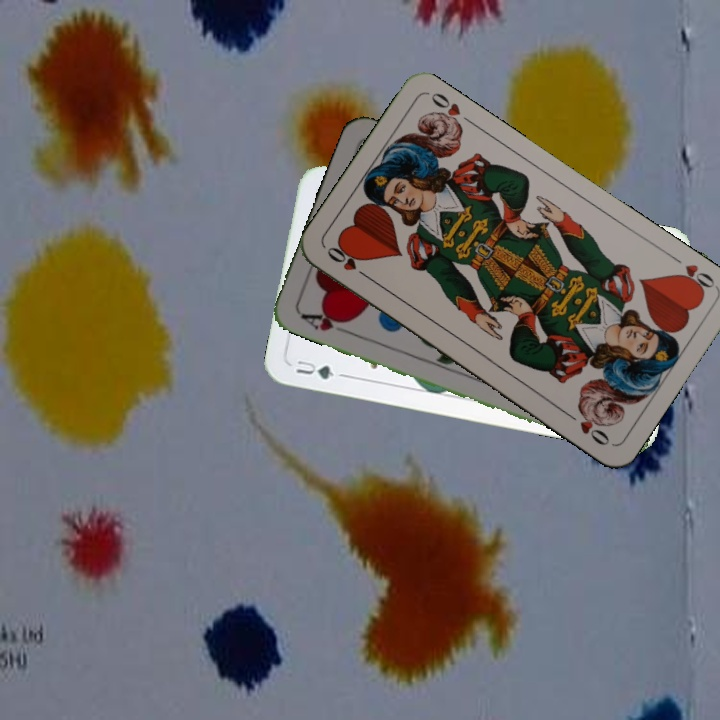GU: (292, 356, 337, 382)
HA: (296, 307, 353, 337)
HO: (667, 251, 718, 297), (323, 242, 374, 283)
